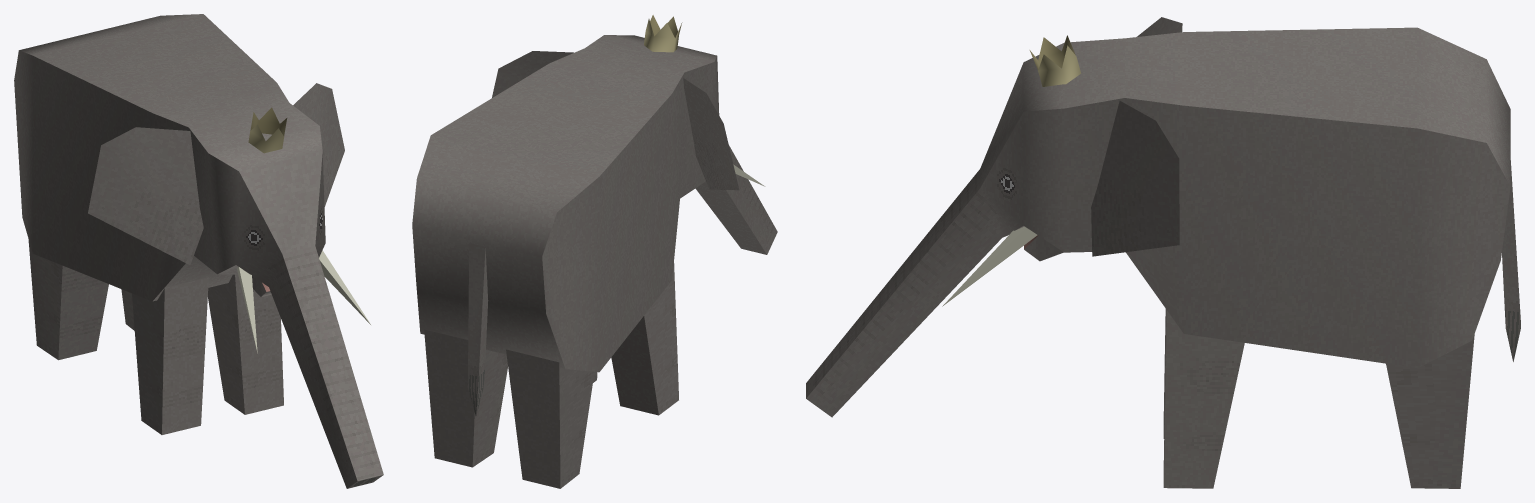
File: 0201_Mammoth.glb
3 views of the same model, side by side, from view 1: azimuth 30°, elevation 25°; view 2: azimuth 150°, elevation 25°; view 3: azimuth 270°, elevation 25° (orthographic). The views are drawn at different scales.
Parts seen in each view (by area): view 1: part_0; view 2: part_0; view 3: part_0.
Part boxes in pixels (left/top/right/bottom): part_0: left=14, top=14, right=383, bottom=488; part_0: left=412, top=15, right=777, bottom=488; part_0: left=806, top=17, right=1520, bottom=488.
Size of the model in its own units: 4.43 by 5.61 by 8.81.
1 material, 1 textured.
